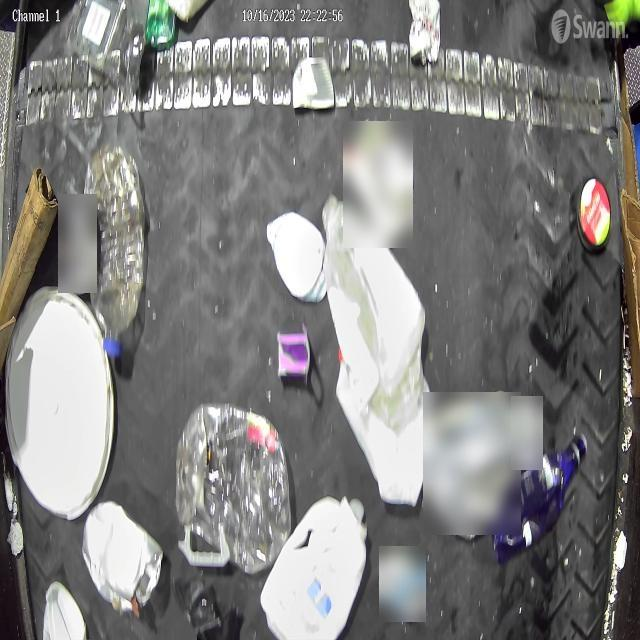milk_jug: (322, 194, 426, 394), (260, 493, 368, 640), (336, 338, 430, 506)
plastic_bottle: (84, 144, 145, 357)
